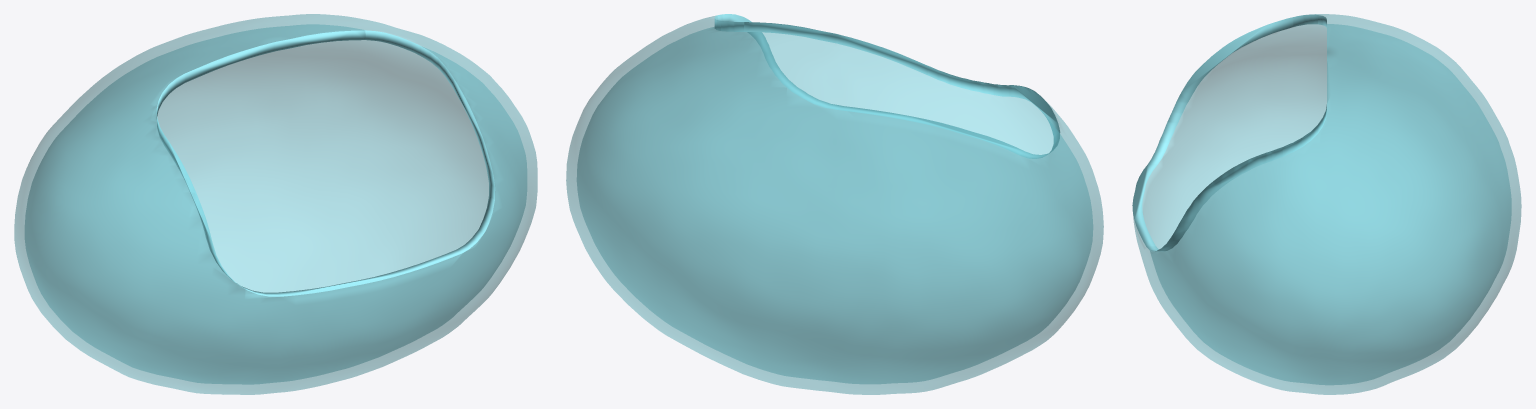
The model's file is cellmembrane.glb.
3 views of the same model, side by side, from view 1: azimuth 30°, elevation 25°; view 2: azimuth 150°, elevation 25°; view 3: azimuth 270°, elevation 25° (orthographic). The views are drawn at different scales.
Parts seen in each view (by area): view 1: cell_membrane; view 2: cell_membrane; view 3: cell_membrane.
Part boxes in pixels (<box>): cell_membrane: <box>14,14,537,394</box>; cell_membrane: <box>566,14,1103,394</box>; cell_membrane: <box>1132,14,1521,394</box>.
Size of the model in its own units: 8.63 by 5.57 by 6.4.
